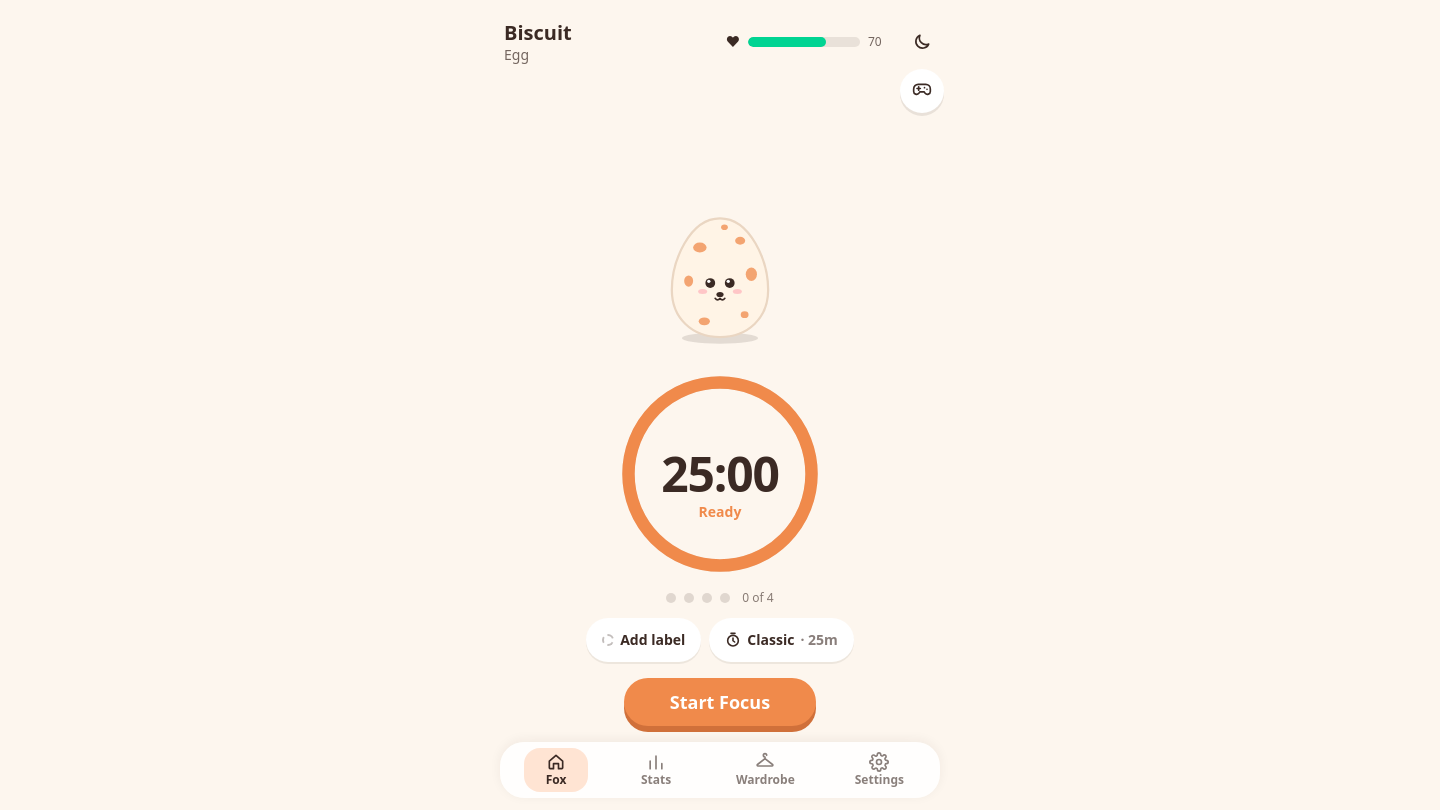
Test: Game texts use the fox’s own name › shows the chosen name, not a default
Click the button named "Play". click: (922, 91)
box: [900,69,944,113]
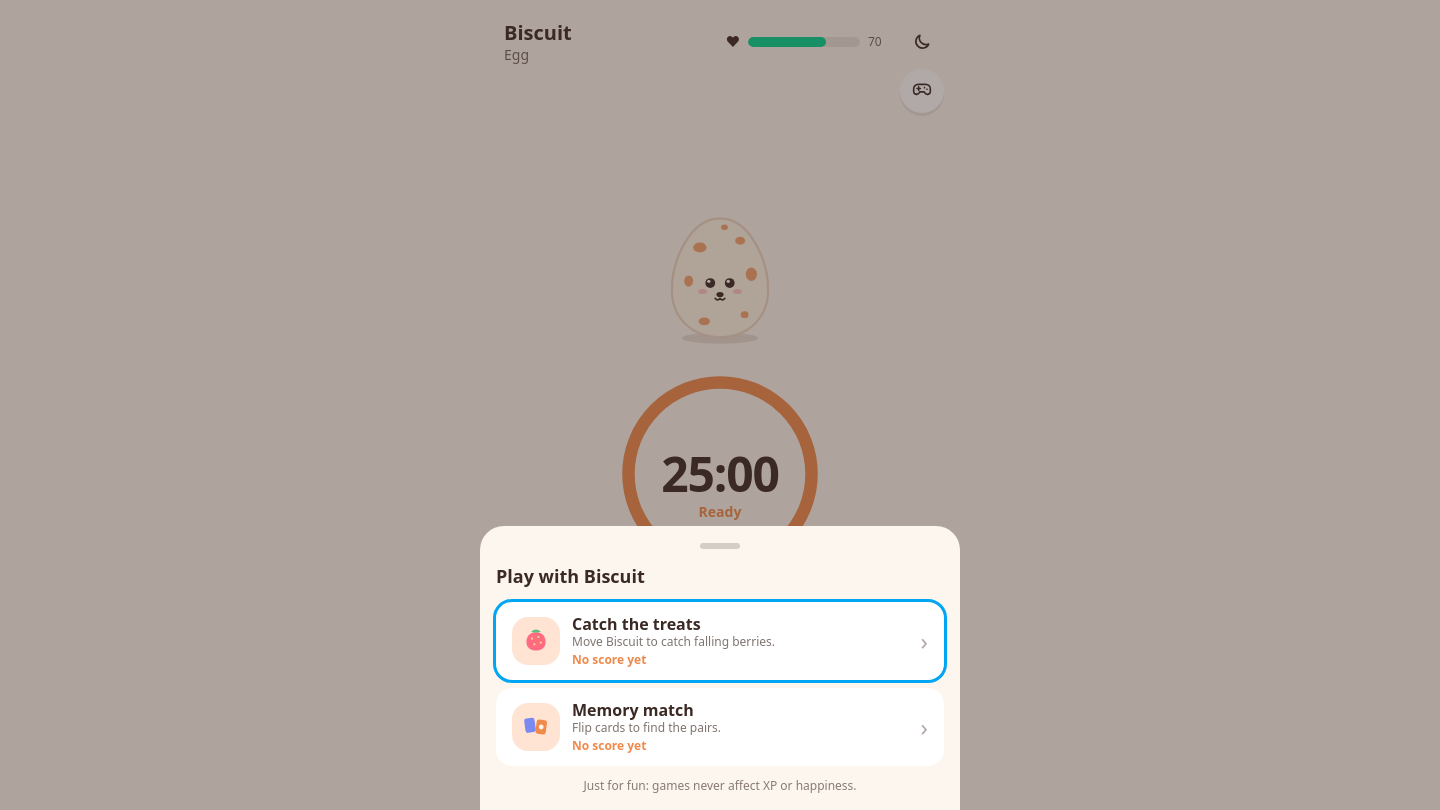
Expected: the dialog "Play with Biscuit" is shown, [480,526,960,809]
Expected: the text "Move Biscuit to catch falling berries." is shown, [572,633,775,650]
Click the text "Catch the treats". click: (636, 624)
box: [572,613,701,635]
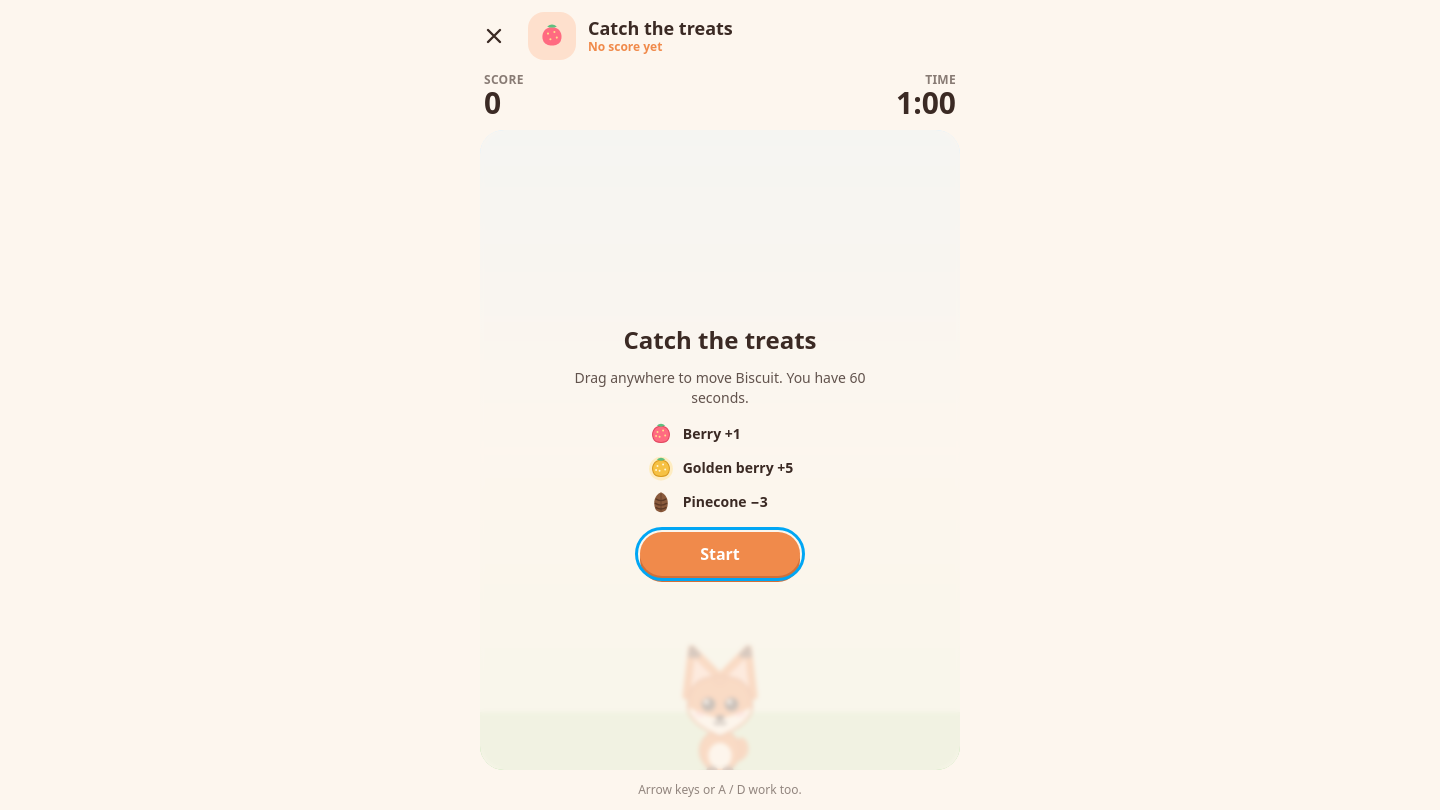
Expected: the text "Drag anywhere to move Biscuit. You have 60 seconds." is shown, [560,368,880,408]
